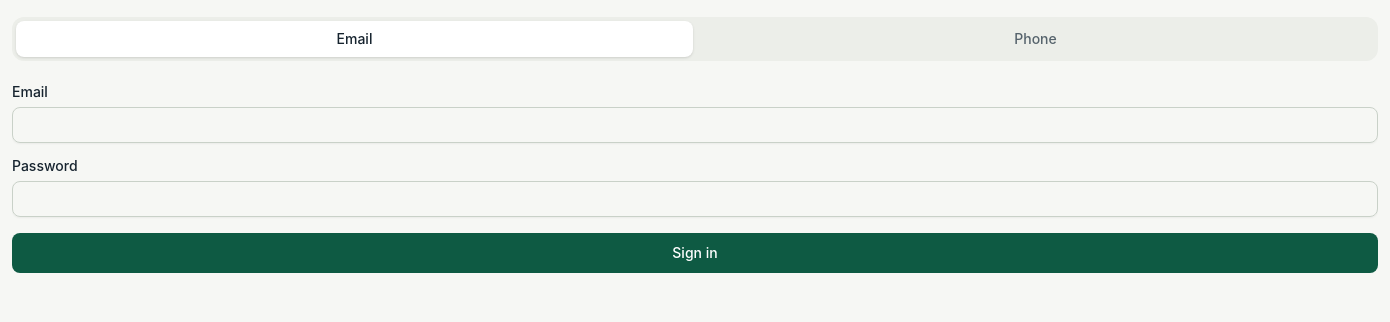
Test: SignInForm: phone OTP › explains a wrong or expired code
The image size is (1390, 322).
Click the tab "Phone" at (1036, 39), box [697,21,1374,57]
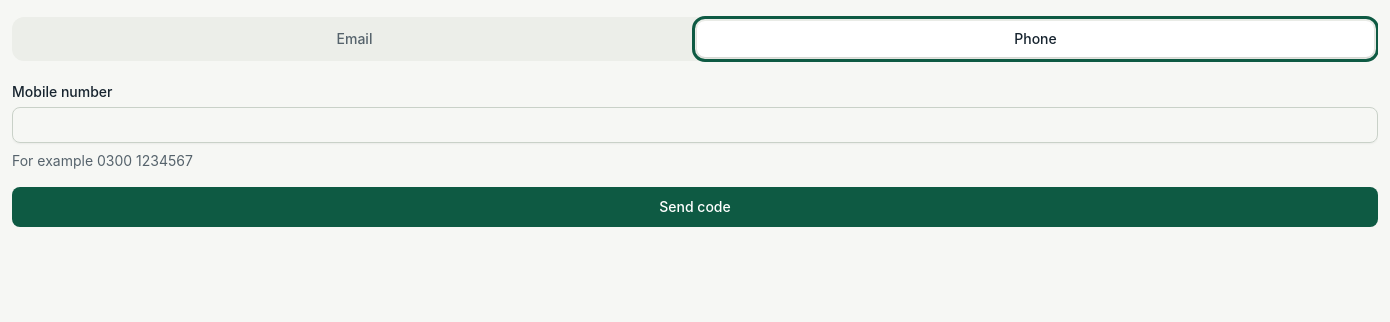
Type "03001234567" into the field labelled "Mobile number" at (695, 125), box [12,107,1378,143]
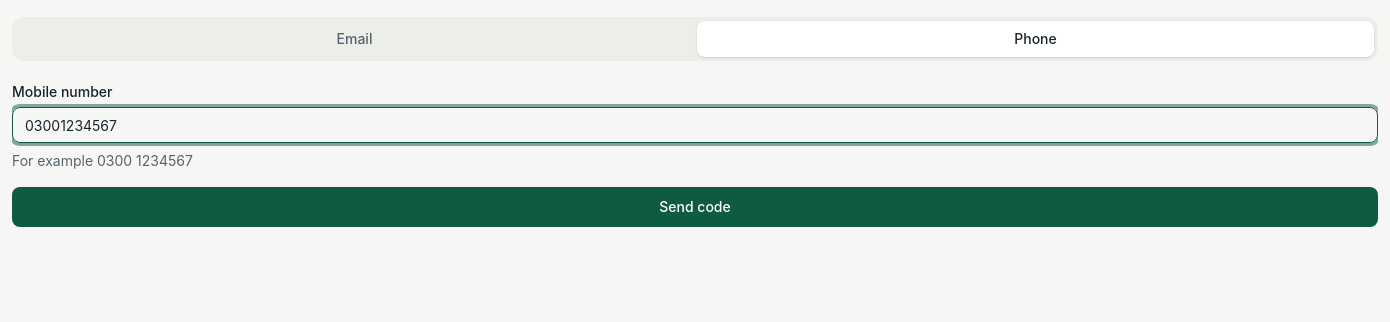
Click the button "Send code" at (695, 207), box [12,187,1378,227]
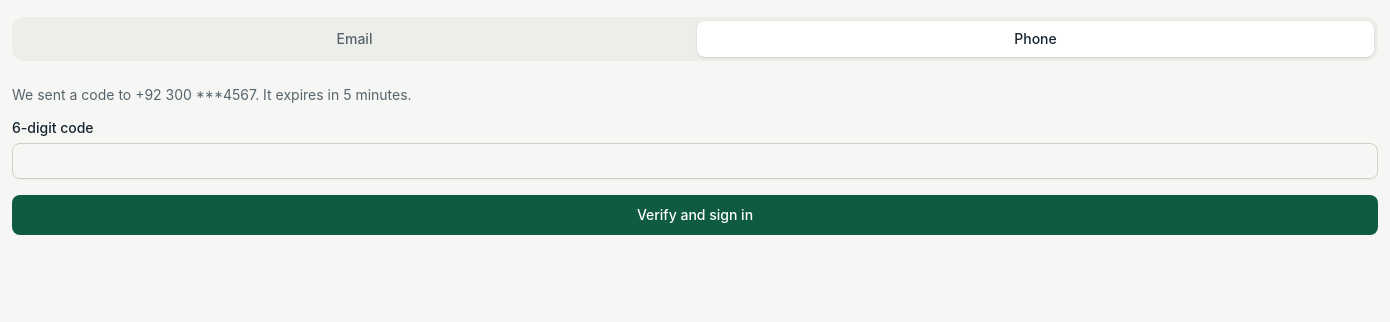
Type "000000" into the field labelled "6-digit code" at (695, 161), box [12,143,1378,179]
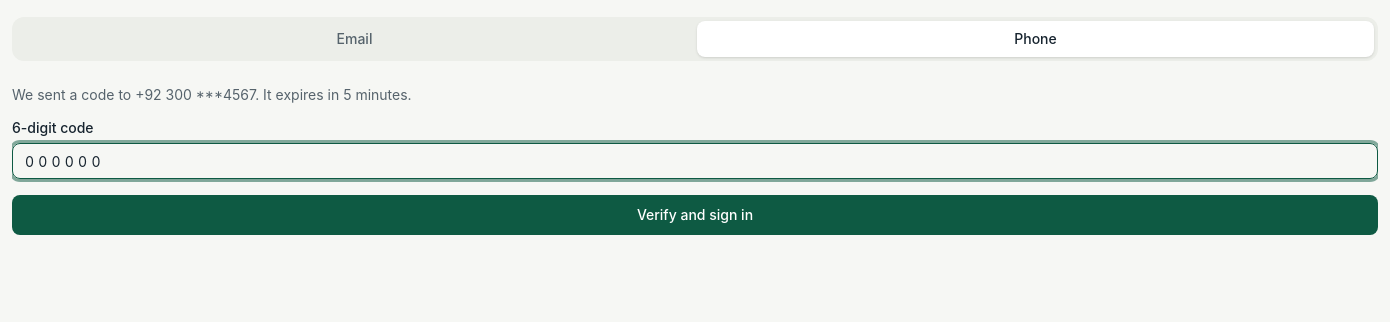
Click the button "Verify and sign in" at (695, 215), box [12,195,1378,235]
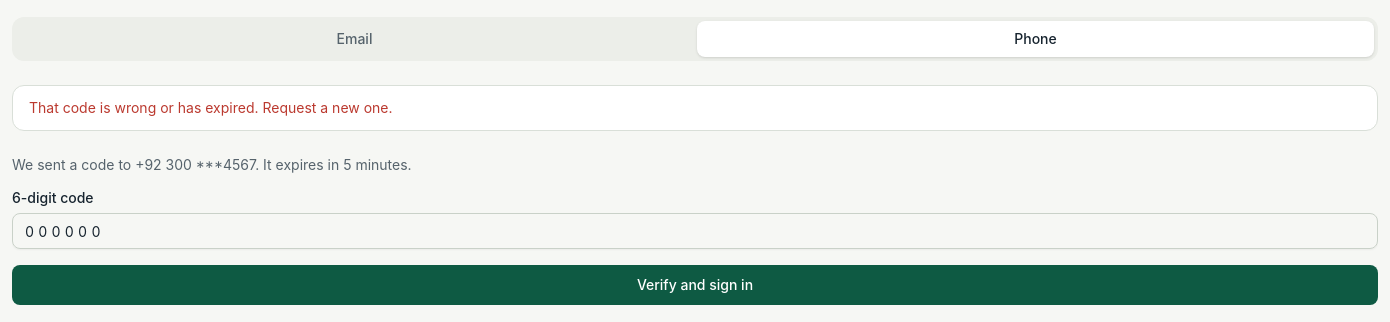
Check: the message shows "wrong or has expired", box [29,99,393,116]
